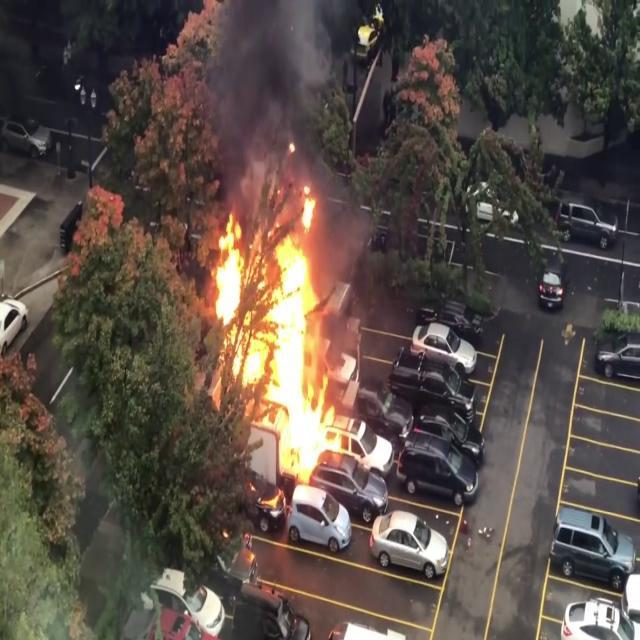Fire: (202, 170, 355, 492)
Smoke: (195, 0, 352, 194)
